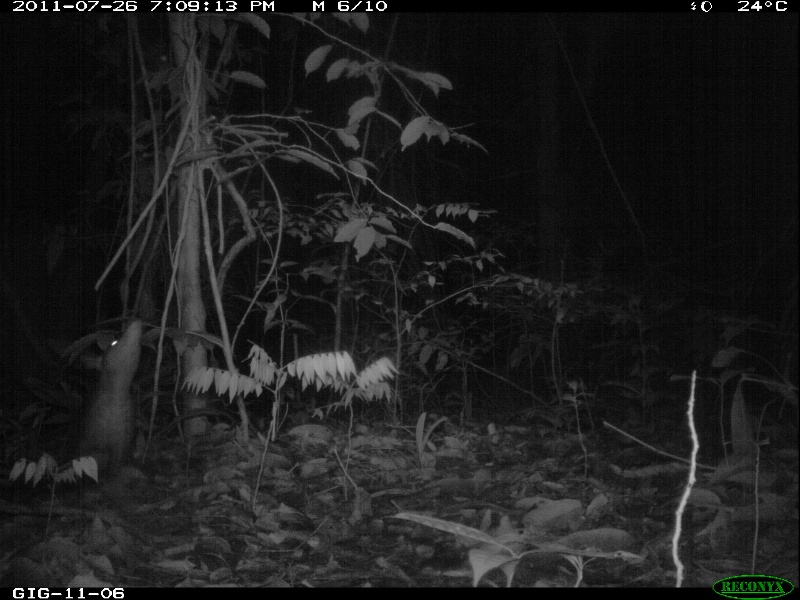opossum: (54, 315, 146, 489)
